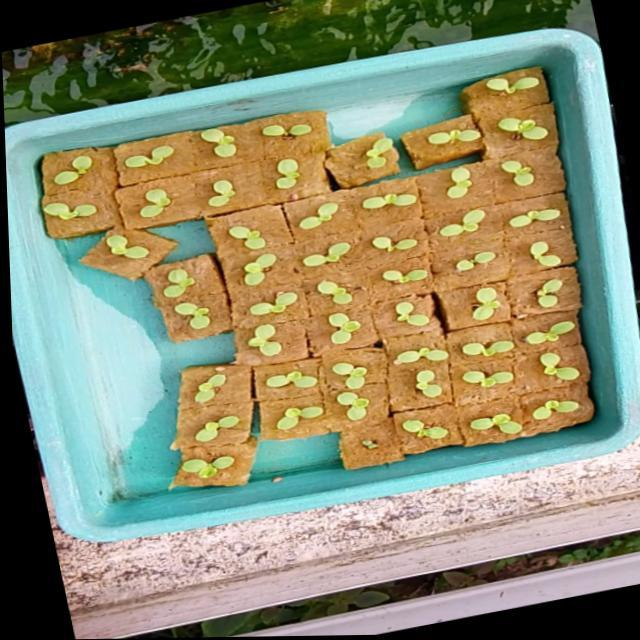Baby: (118, 225, 178, 263), (57, 147, 119, 183), (501, 150, 568, 181), (131, 140, 190, 169), (286, 360, 339, 392), (243, 248, 295, 280), (466, 245, 527, 272), (561, 272, 605, 307), (548, 314, 607, 340), (411, 290, 457, 323), (265, 282, 315, 312), (78, 183, 133, 209), (173, 258, 212, 293), (200, 450, 255, 474), (460, 202, 507, 230), (215, 409, 259, 437), (323, 236, 370, 261), (268, 318, 303, 351), (496, 410, 550, 431), (568, 347, 607, 376), (496, 281, 528, 316), (217, 122, 254, 152), (417, 342, 473, 361), (351, 306, 383, 339), (246, 217, 284, 244), (299, 406, 345, 428), (558, 396, 606, 417), (354, 357, 390, 385), (531, 201, 584, 220), (359, 385, 392, 415), (427, 415, 474, 436), (390, 228, 440, 247), (215, 368, 246, 398), (159, 183, 190, 213), (336, 275, 373, 300), (486, 335, 540, 352), (552, 235, 585, 261), (193, 303, 229, 326), (467, 160, 493, 191), (440, 365, 467, 394), (402, 262, 449, 278), (294, 152, 319, 182), (226, 173, 252, 201), (326, 197, 355, 222), (499, 367, 538, 383)
